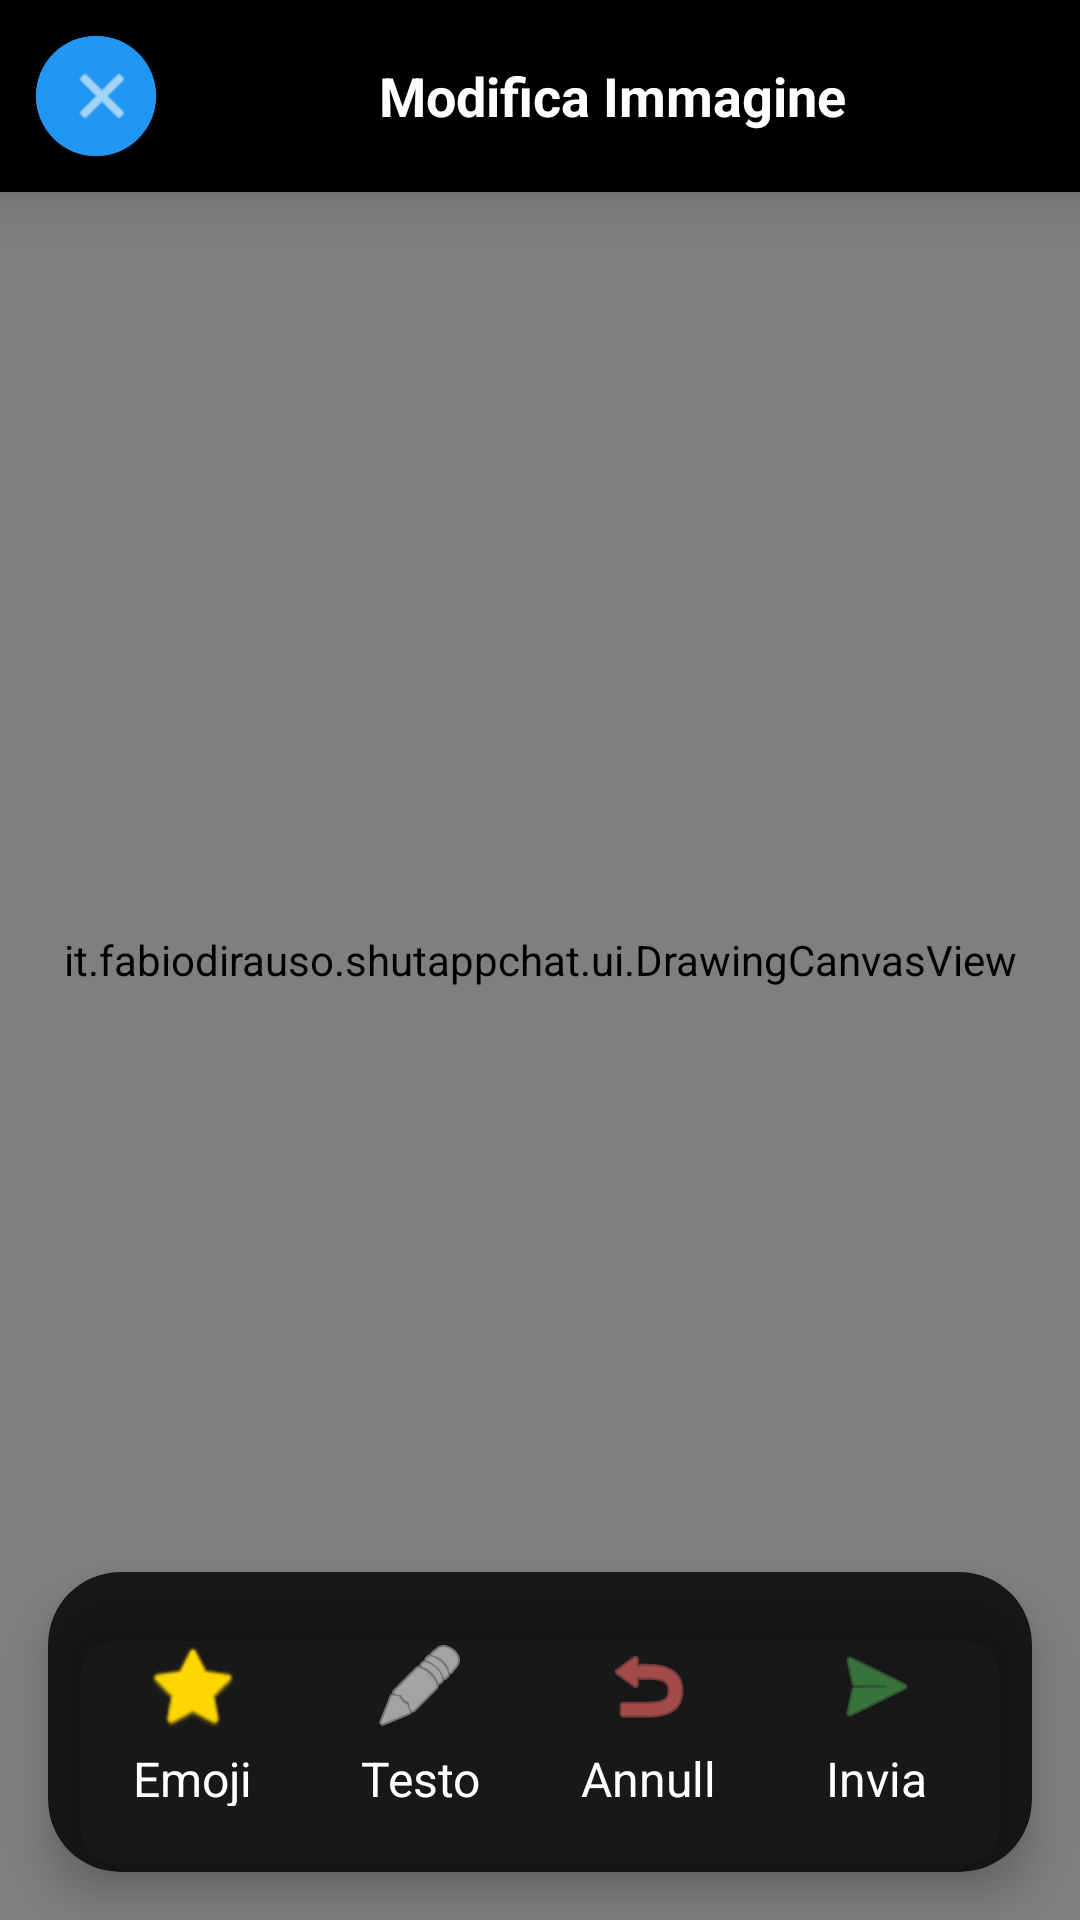

Icon click points for this 1080*1920 phone screenshot, format (x=x, y=y):
Chiudi: (x=96, y=96)
